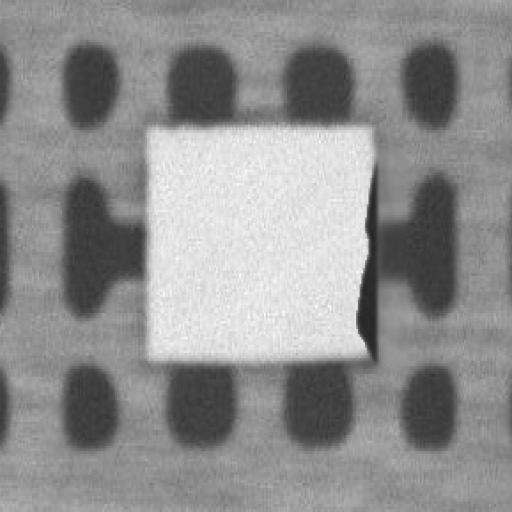DIE_BROKEN: (349, 159, 379, 361)
